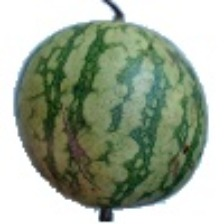watermelon: (2, 26, 202, 210)
